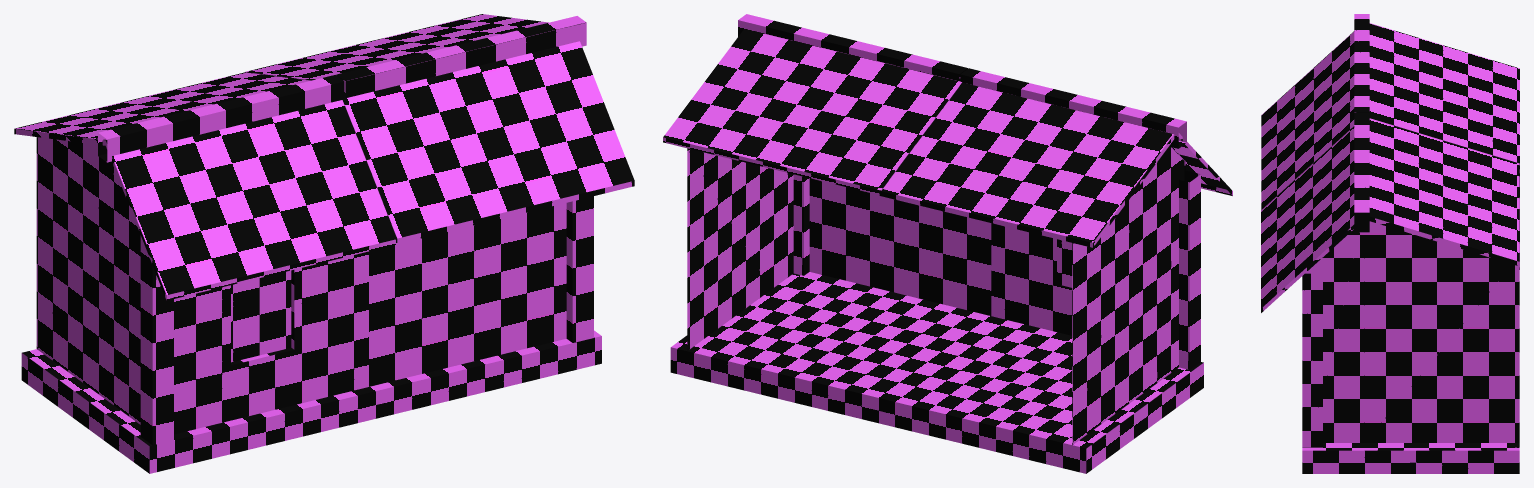
The model's file is SM_small house_v4.fbx.
The picture shows the model from 3 angles, left to right: view 1: azimuth 30°, elevation 25°; view 2: azimuth 150°, elevation 25°; view 3: azimuth 270°, elevation 25°; orthographic projection. The views are drawn at different scales.
Parts seen in each view (by area): view 1: Cube.029; view 2: Cube.029; view 3: Cube.029.
Boxes of the visible parts, x1,y1,x2,y2 form: Cube.029: (14, 14, 634, 473); Cube.029: (663, 14, 1232, 473); Cube.029: (1261, 14, 1519, 473).
Size of the model in its own units: 636 by 400 by 350.
